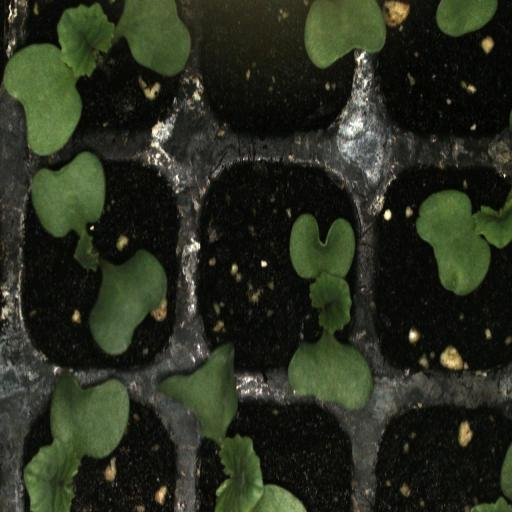Folha: (287, 213, 376, 414), (416, 190, 512, 296), (436, 0, 498, 37)
Germinacao: (192, 144, 364, 384), (11, 158, 191, 381), (8, 0, 188, 155), (182, 379, 360, 512), (11, 380, 182, 512)
